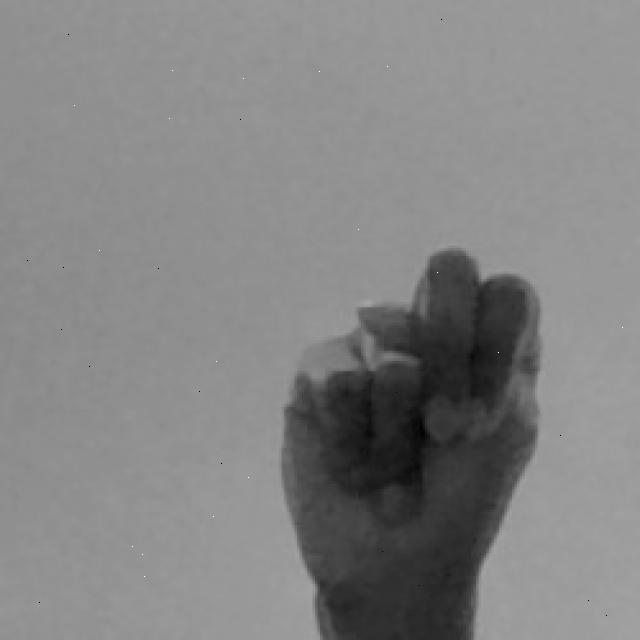N: (273, 240, 550, 640)
